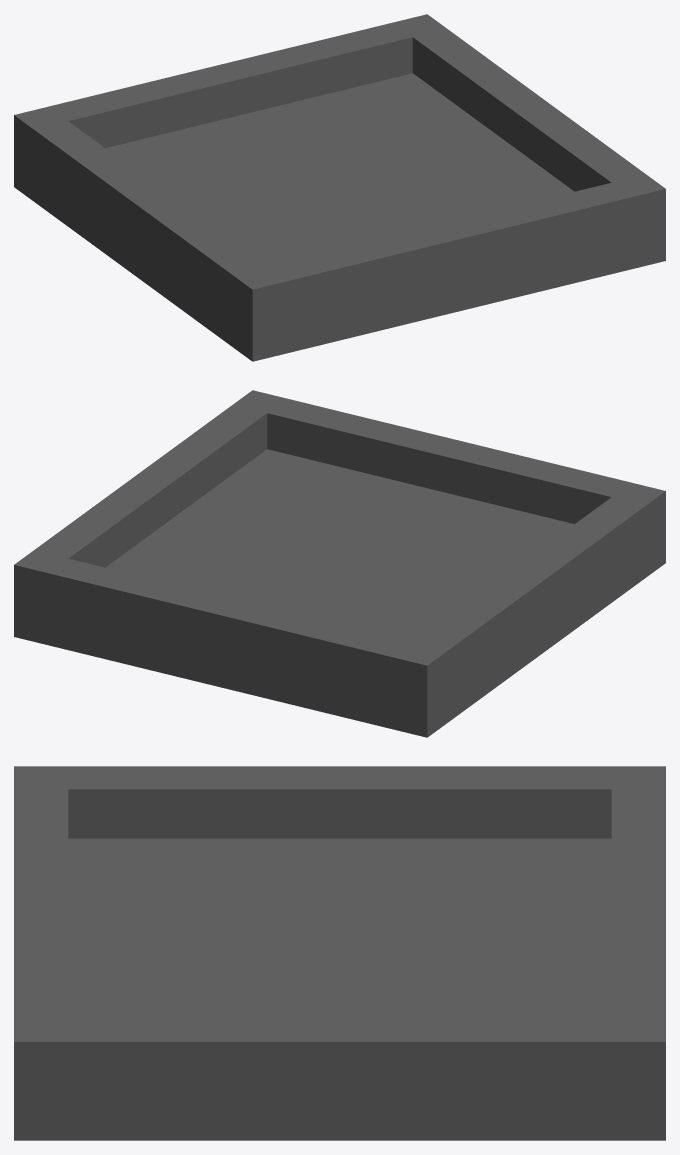
The model's file is tray.gltf.
3 renders of one model, top to bottom at view 1: azimuth 30°, elevation 25°; view 2: azimuth 150°, elevation 25°; view 3: azimuth 270°, elevation 25°, orthographic. The views are drawn at different scales.
Parts seen in each view (by area): view 1: tray_base, cube (×4); view 2: tray_base, cube (×4); view 3: tray_base, cube (×4).
Boxes of the visible parts, <box> form: tray_base: <box>14,73,665,361</box>; cube (×4): <box>14,14,665,325</box>; tray_base: <box>14,449,665,737</box>; cube (×4): <box>14,390,665,701</box>; tray_base: <box>14,838,665,1140</box>; cube (×4): <box>14,766,665,1091</box>.
Bounding box in the file's own units: 0.75 × 0.125 × 0.75.
Materials: 1 (1 with a texture image).
